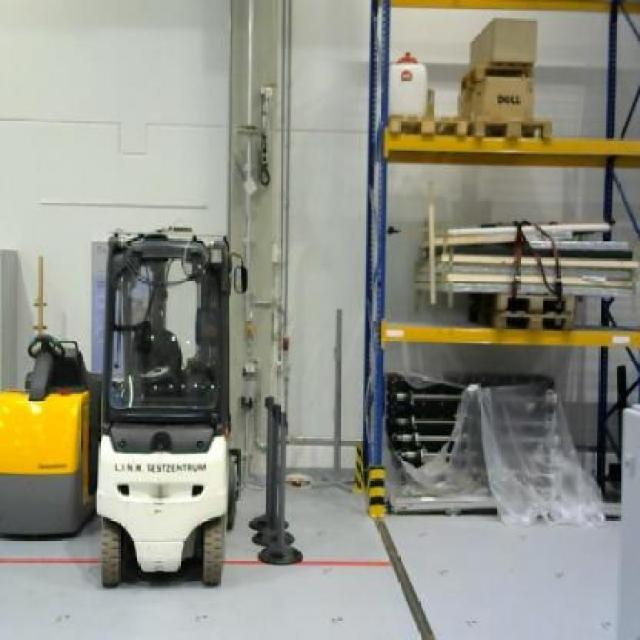box: (468, 15, 538, 63), (456, 78, 535, 120)
